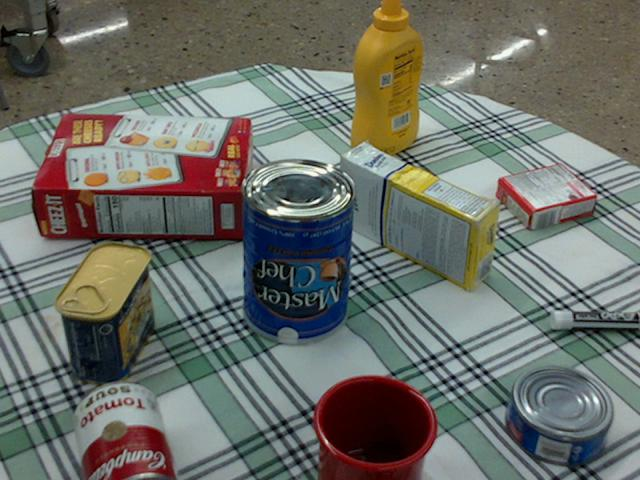cracker_box: (32, 114, 249, 236)
gelatin_box: (495, 163, 595, 229)
large_marker: (551, 309, 639, 329)
master_chef_can: (240, 158, 355, 343)
mug: (308, 375, 434, 479)
mustard_bottle: (349, 0, 422, 157)
potted_meat_can: (55, 241, 152, 385)
sugar_box: (338, 143, 499, 290)
tomato_soup_can: (73, 381, 175, 479)
tuna_fish_can: (506, 366, 613, 465)
